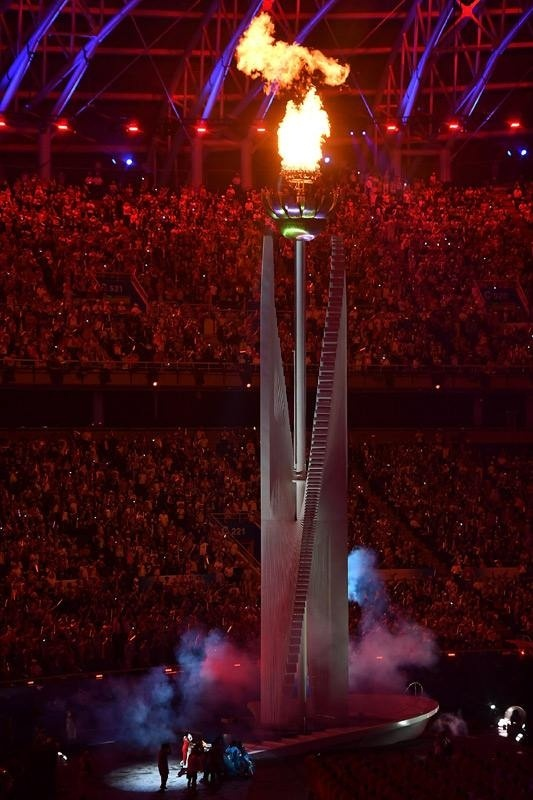fire: (234, 8, 346, 175)
